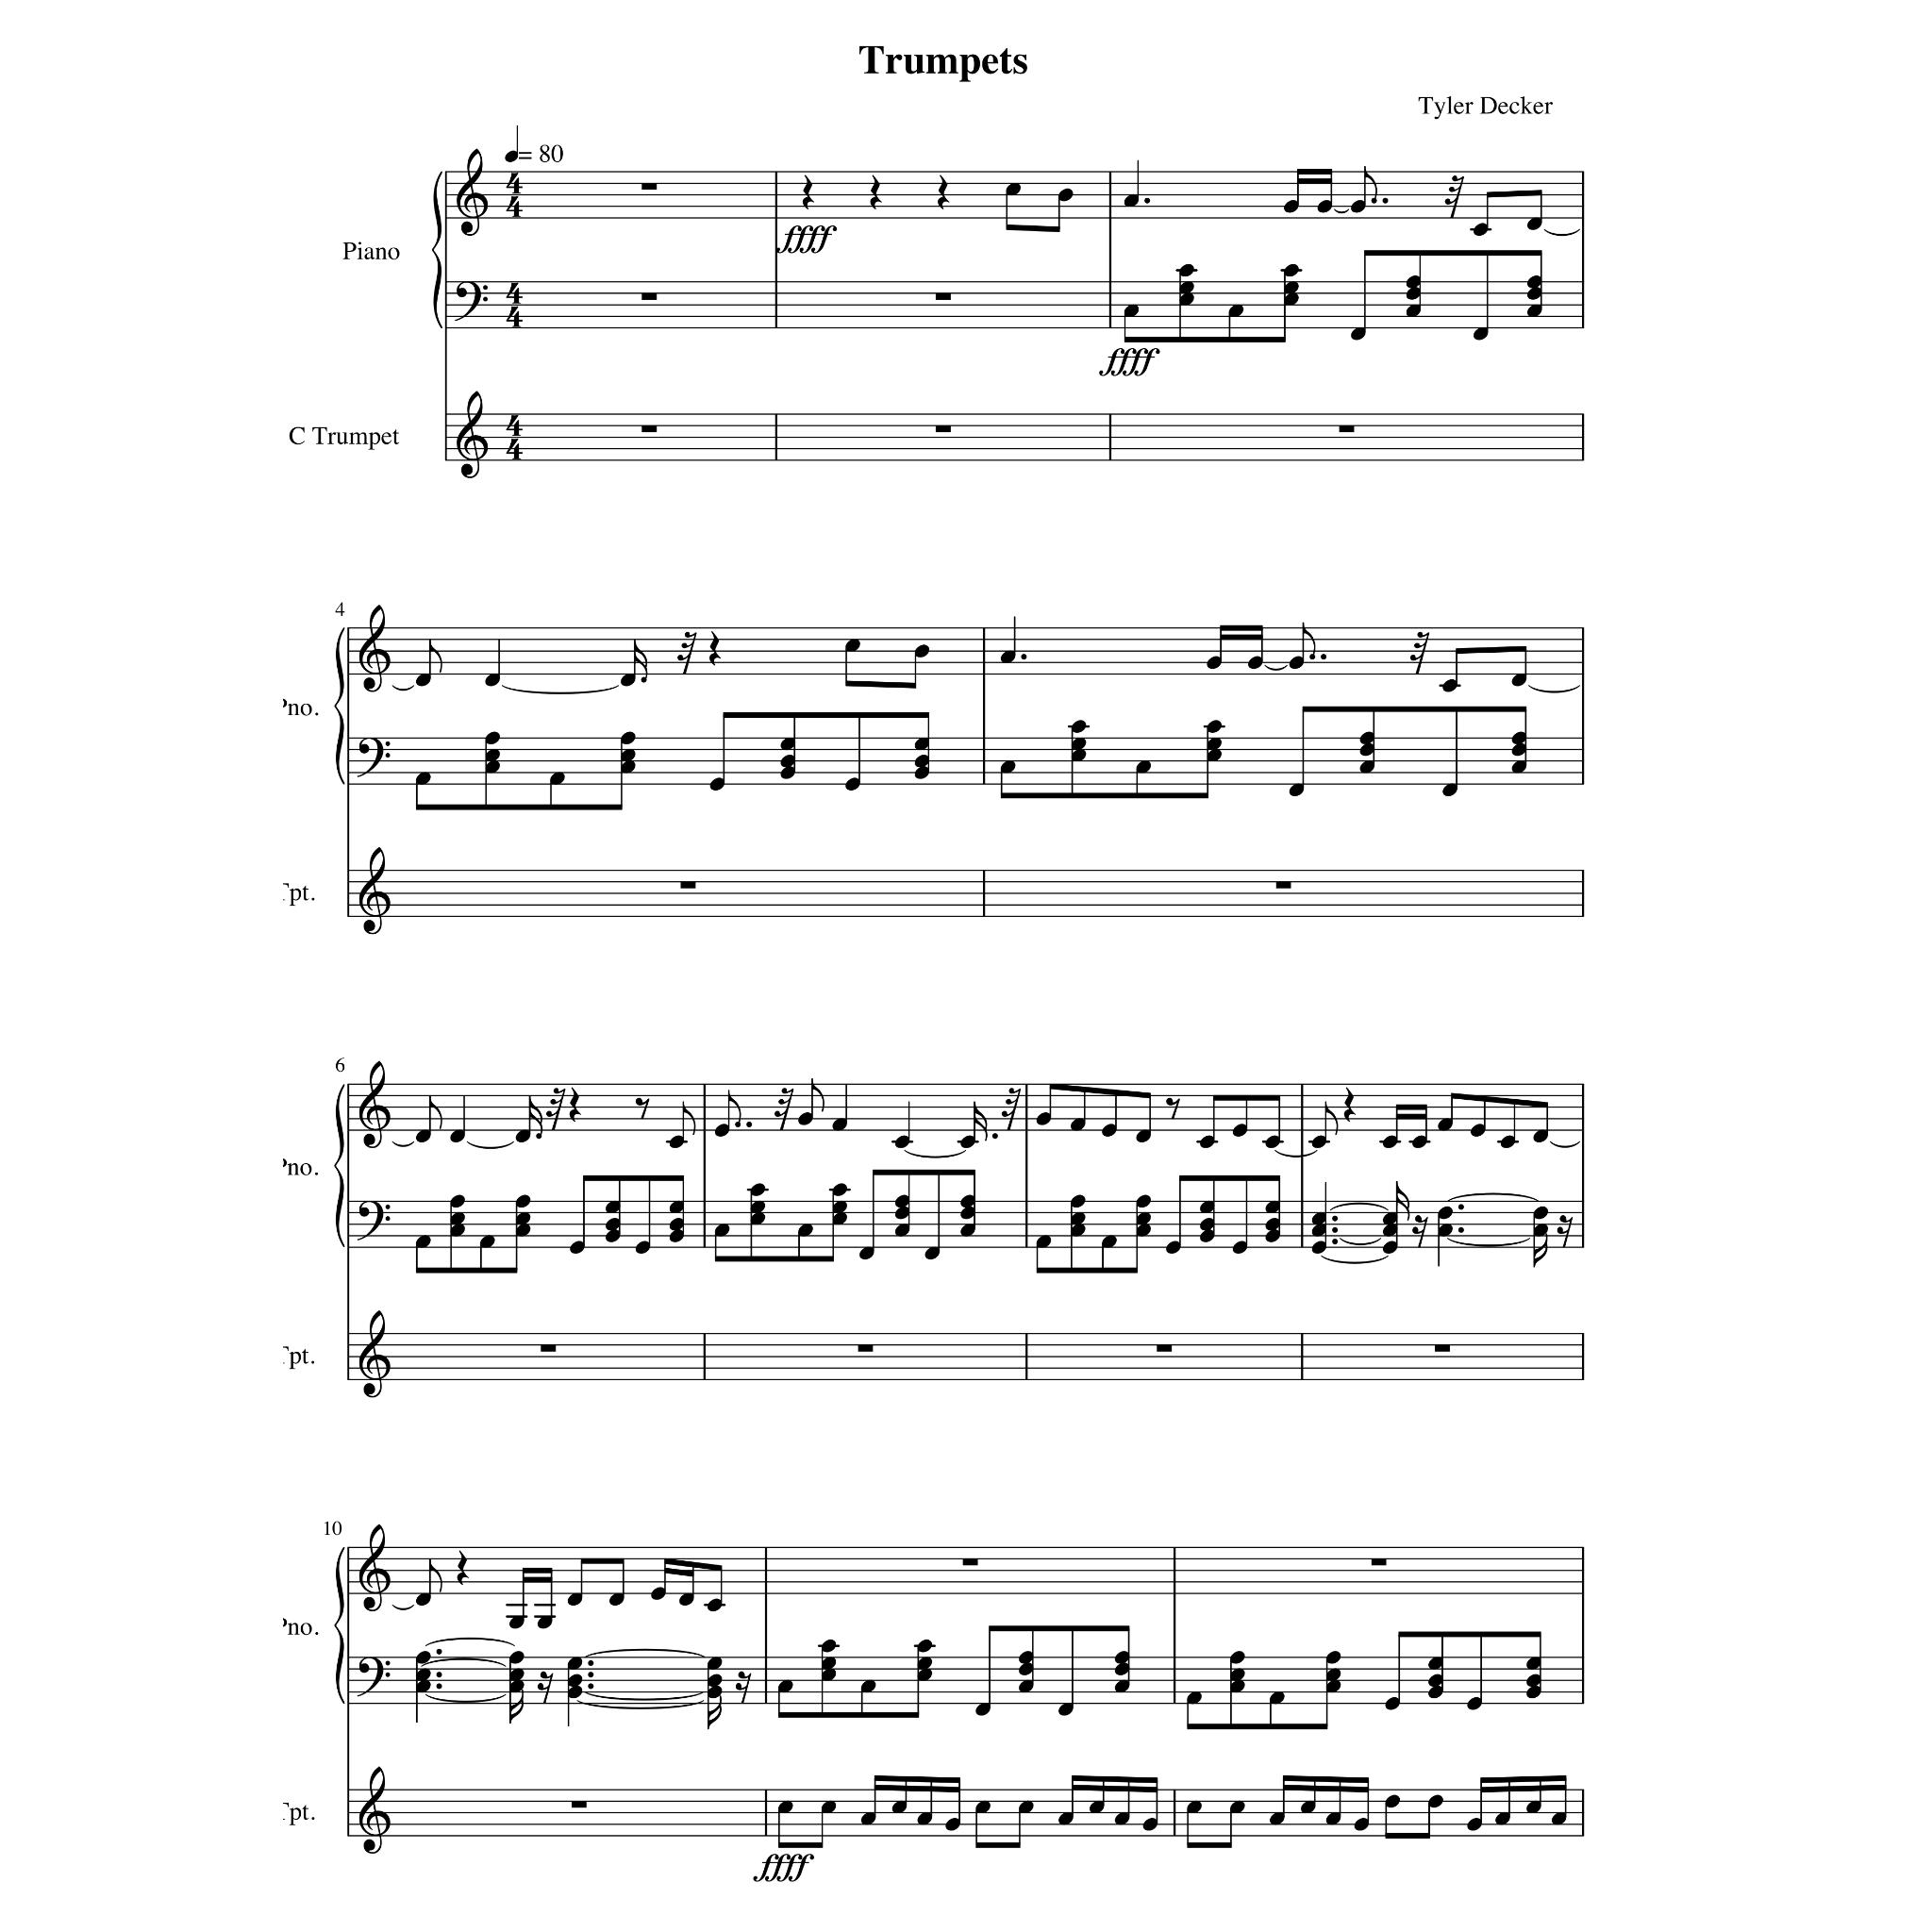brace: (333, 1085, 345, 1247), (333, 628, 345, 786), (333, 1546, 345, 1704), (432, 172, 442, 329)
fClef: (453, 281, 488, 322), (357, 738, 391, 778), (357, 1201, 391, 1240), (357, 1658, 391, 1697)
flag16thDown: (708, 1695, 722, 1730), (1534, 1233, 1548, 1267), (510, 1690, 524, 1723)
flag16thUp: (633, 640, 648, 681), (1396, 1182, 1410, 1223), (529, 1095, 543, 1136), (973, 1102, 987, 1141)
flag8thUp: (1302, 623, 1316, 656), (1325, 1102, 1339, 1136), (683, 1102, 697, 1136), (1364, 166, 1376, 202), (729, 1090, 741, 1125), (430, 1559, 442, 1594), (430, 640, 442, 674), (430, 1097, 442, 1131), (812, 1079, 824, 1113)
gClef: (456, 149, 488, 237), (456, 391, 488, 479), (359, 846, 391, 934), (359, 605, 391, 694), (359, 1060, 391, 1148), (359, 1309, 391, 1398), (359, 1766, 391, 1854), (359, 1523, 391, 1612)
noteheadBlack: (1525, 218, 1543, 232), (1525, 304, 1543, 318), (1525, 287, 1543, 301), (844, 777, 862, 791), (1468, 1123, 1486, 1138), (858, 1246, 876, 1260), (1228, 1679, 1246, 1693), (1228, 1651, 1246, 1665), (1228, 1801, 1246, 1815), (1113, 1679, 1131, 1693), (1113, 1651, 1131, 1665), (1056, 1812, 1074, 1826), (1056, 1702, 1074, 1716), (1141, 1817, 1159, 1831), (1113, 1812, 1131, 1826), (1525, 1801, 1543, 1815), (1525, 1656, 1543, 1670), (1525, 1674, 1543, 1688), (1525, 1686, 1543, 1700), (1384, 1794, 1401, 1808), (1384, 1697, 1401, 1711), (1350, 200, 1366, 214), (1178, 281, 1194, 295), (1405, 287, 1421, 301), (1405, 304, 1421, 318), (1283, 294, 1299, 308), (1178, 264, 1194, 278), (1228, 304, 1244, 318), (1283, 200, 1299, 214), (1283, 281, 1299, 295), (1283, 264, 1299, 278), (1316, 200, 1332, 214), (1474, 223, 1490, 237), (1178, 294, 1194, 308), (1123, 304, 1139, 318), (1005, 182, 1021, 196), (1207, 748, 1223, 763), (1288, 784, 1304, 798), (1070, 748, 1086, 763), (1359, 743, 1375, 757), (1511, 743, 1527, 757), (1442, 784, 1458, 798), (485, 748, 501, 763), (621, 748, 637, 763), (780, 754, 796, 768), (913, 754, 929, 768), (913, 644, 929, 658), (709, 777, 725, 791), (1231, 1123, 1247, 1138), (1200, 1217, 1215, 1231), (1311, 1212, 1327, 1226), (1311, 1223, 1327, 1237), (1265, 1217, 1281, 1231), (1069, 1223, 1085, 1237), (1069, 1118, 1085, 1132), (1069, 1212, 1085, 1226), (1069, 1194, 1085, 1208), (1136, 1129, 1152, 1143), (1136, 1223, 1152, 1237), (1136, 1212, 1152, 1226), (1136, 1194, 1152, 1208), (1100, 1123, 1116, 1138), (1532, 1129, 1548, 1143), (1532, 1223, 1548, 1237), (1382, 1223, 1398, 1237), (1382, 1212, 1398, 1226), (1437, 1118, 1453, 1132), (1437, 1223, 1453, 1237), (605, 1217, 621, 1231), (515, 1129, 531, 1143), (515, 1223, 531, 1237), (515, 1212, 531, 1226), (515, 1194, 531, 1208), (669, 1217, 685, 1231), (713, 1123, 729, 1138), (713, 1223, 729, 1237), (449, 1212, 465, 1226), (449, 1194, 465, 1208), (449, 1223, 465, 1237), (414, 1129, 430, 1143), (449, 1129, 465, 1143), (893, 1194, 909, 1208), (893, 1223, 909, 1237), (832, 1118, 847, 1132), (832, 1212, 847, 1226), (832, 1184, 847, 1198), (961, 1223, 977, 1237), (924, 1246, 939, 1260), (961, 1194, 977, 1208), (750, 1184, 766, 1198), (750, 1212, 766, 1226), (798, 1223, 814, 1237), (1019, 1679, 1035, 1693), (1325, 1679, 1341, 1693), (1269, 1812, 1284, 1826), (1090, 1801, 1106, 1815), (1019, 1651, 1035, 1665), (1187, 1801, 1203, 1815), (1019, 1801, 1035, 1815), (1552, 1812, 1568, 1826), (1428, 1686, 1444, 1700), (1428, 1674, 1444, 1688), (1353, 1817, 1369, 1831), (1325, 1812, 1341, 1826), (1495, 1812, 1511, 1826), (1325, 1651, 1341, 1665), (1467, 1817, 1483, 1831), (1467, 1697, 1483, 1711), (1428, 1794, 1444, 1808), (1428, 1656, 1444, 1670), (566, 1656, 582, 1670), (566, 1674, 582, 1688), (566, 1686, 582, 1700), (566, 1592, 582, 1606), (536, 1615, 552, 1629), (708, 1656, 724, 1670), (708, 1674, 724, 1688), (708, 1686, 724, 1700), (708, 1598, 724, 1612), (679, 1592, 695, 1606), (651, 1587, 667, 1601), (609, 1592, 625, 1606), (508, 1651, 524, 1665), (508, 1679, 524, 1693), (508, 1615, 524, 1629), (414, 1651, 430, 1665), (414, 1679, 430, 1693), (414, 1592, 430, 1606), (892, 1801, 908, 1815), (860, 1812, 876, 1826), (860, 1679, 876, 1693), (975, 1801, 991, 1815), (975, 1702, 991, 1716), (945, 1817, 961, 1831), (916, 1812, 932, 1826), (916, 1656, 932, 1670), (777, 1801, 793, 1815), (777, 1679, 793, 1693), (1525, 276, 1543, 288), (1056, 189, 1074, 202), (844, 639, 862, 651), (1228, 1668, 1246, 1681), (1113, 1663, 1131, 1675), (1300, 1801, 1315, 1815), (821, 1801, 835, 1815), (821, 1656, 835, 1670), (1350, 327, 1366, 340), (1405, 276, 1421, 288), (1474, 327, 1490, 340), (1123, 195, 1139, 207), (1136, 761, 1152, 773), (1207, 720, 1223, 732), (1207, 738, 1223, 750), (1207, 656, 1223, 669), (1288, 656, 1304, 669), (1247, 656, 1263, 669), (1070, 720, 1086, 732), (1070, 738, 1086, 750), (1359, 732, 1375, 745), (1359, 761, 1375, 773), (1511, 732, 1527, 745), (1511, 761, 1527, 773), (1511, 674, 1527, 686), (1442, 679, 1458, 692), (485, 732, 501, 745), (485, 761, 501, 773), (485, 674, 501, 686), (414, 773, 430, 786), (414, 674, 430, 686), (621, 732, 637, 745), (621, 674, 637, 686), (550, 773, 566, 786), (621, 761, 637, 773), (780, 766, 796, 778), (1000, 761, 1016, 773), (1000, 651, 1016, 663), (780, 738, 796, 750), (913, 738, 929, 750), (913, 766, 929, 778), (1231, 1242, 1247, 1254), (1265, 1136, 1281, 1148), (1200, 1201, 1215, 1214), (1200, 1230, 1215, 1242), (1200, 1136, 1215, 1148), (1311, 1242, 1327, 1254), (1311, 1136, 1327, 1148), (1265, 1201, 1281, 1214), (1265, 1230, 1281, 1242), (1164, 1242, 1180, 1254), (1100, 1235, 1116, 1247), (1500, 1136, 1516, 1148), (1532, 1207, 1548, 1219), (1382, 1136, 1398, 1148), (1382, 1242, 1398, 1254), (1437, 1207, 1453, 1219), (1410, 1136, 1426, 1148), (568, 1242, 584, 1254), (605, 1230, 621, 1242), (605, 1201, 621, 1214), (669, 1230, 685, 1242), (669, 1201, 685, 1214), (669, 1136, 685, 1148), (635, 1242, 651, 1254), (479, 1235, 495, 1247), (414, 1235, 430, 1247), (893, 1136, 909, 1148), (893, 1207, 909, 1219), (832, 1201, 847, 1214), (1035, 1113, 1051, 1125), (1035, 1235, 1051, 1247), (961, 1136, 977, 1148), (961, 1207, 977, 1219), (750, 1201, 766, 1214), (798, 1113, 814, 1125), (1019, 1663, 1035, 1675), (1325, 1668, 1341, 1681), (1269, 1691, 1284, 1704), (1187, 1691, 1203, 1704), (508, 1668, 524, 1681), (414, 1668, 430, 1681), (916, 1668, 932, 1681), (916, 1640, 932, 1652), (821, 1640, 835, 1652), (821, 1668, 835, 1681)
rest16th: (1555, 1215, 1573, 1249), (536, 1670, 554, 1704), (1412, 1215, 1428, 1249), (734, 1670, 750, 1704)
rest8th: (1166, 1097, 1180, 1120), (635, 1097, 649, 1120)
restQuarter: (708, 632, 722, 667), (568, 1086, 580, 1123), (801, 175, 814, 211), (869, 175, 881, 211), (938, 175, 950, 211), (456, 1550, 469, 1585), (1345, 1086, 1355, 1123)
restWhole: (1155, 1345, 1173, 1353), (936, 425, 952, 433), (640, 182, 656, 191), (640, 425, 656, 433), (1338, 425, 1353, 433), (856, 1345, 872, 1353), (540, 1345, 556, 1353), (1435, 1345, 1451, 1353), (1369, 1559, 1387, 1566), (936, 294, 952, 301), (640, 294, 656, 301), (1276, 881, 1292, 888), (679, 881, 695, 888), (962, 1559, 978, 1566), (570, 1801, 586, 1808)
